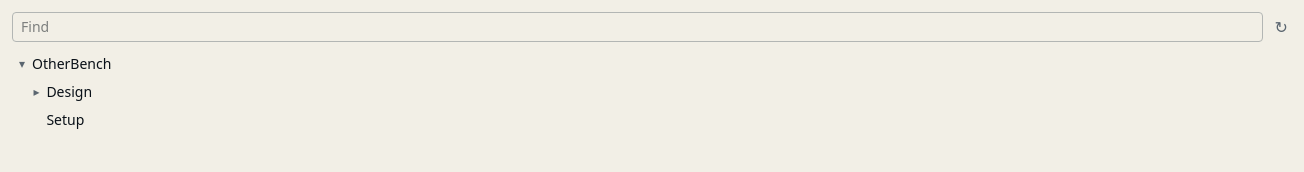
Test: WikiTab › Find filters by title and shows the match's parents
Check: the button with test id "wiki-row-10" is shown, box [32, 50, 1292, 78]
Type "SPEC" into the search field labelled "Find" at point(637, 27), box [12, 12, 1263, 42]
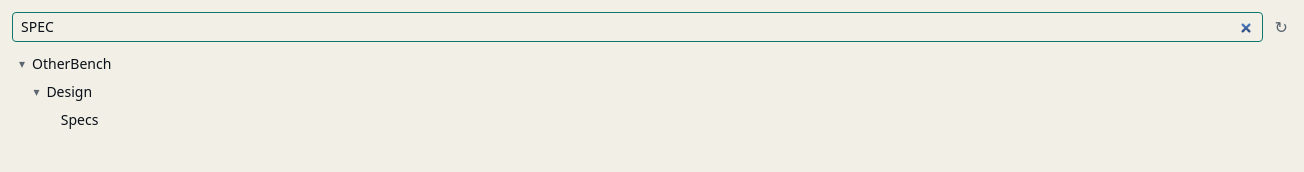
Check: the elements with test id "^wiki-row-" read "OtherBench", "Design", "Specs", in this order, box [32, 50, 1292, 78]; [46, 78, 1292, 106]; [61, 106, 1292, 134]
Check: the button with test id "wiki-row-12" is gone
Replace the text in the search field named "Find" with "zzz" at point(637, 27), box [12, 12, 1263, 42]
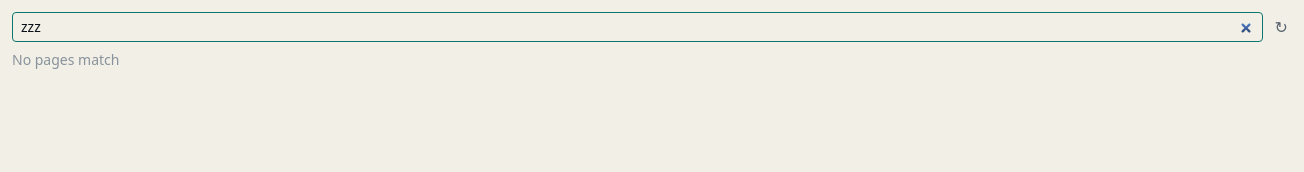
Check: the text "No pages match" is shown, box [12, 50, 119, 69]
